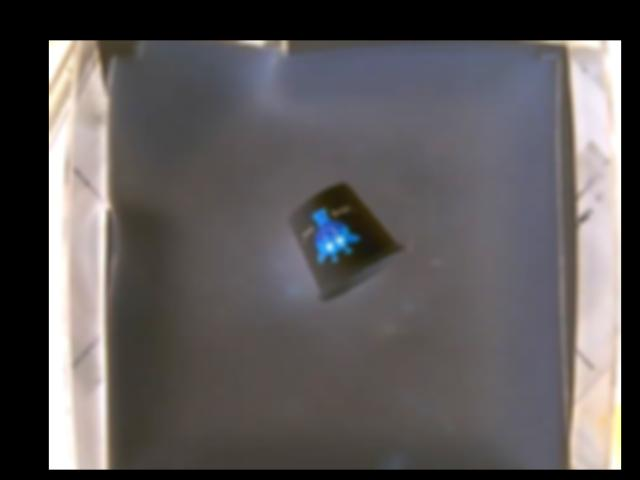Cup: (285, 181, 404, 299)
